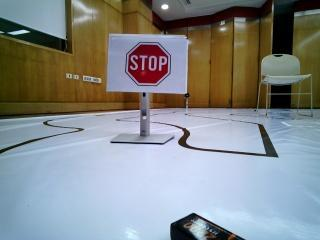stop: (117, 40, 186, 92)
